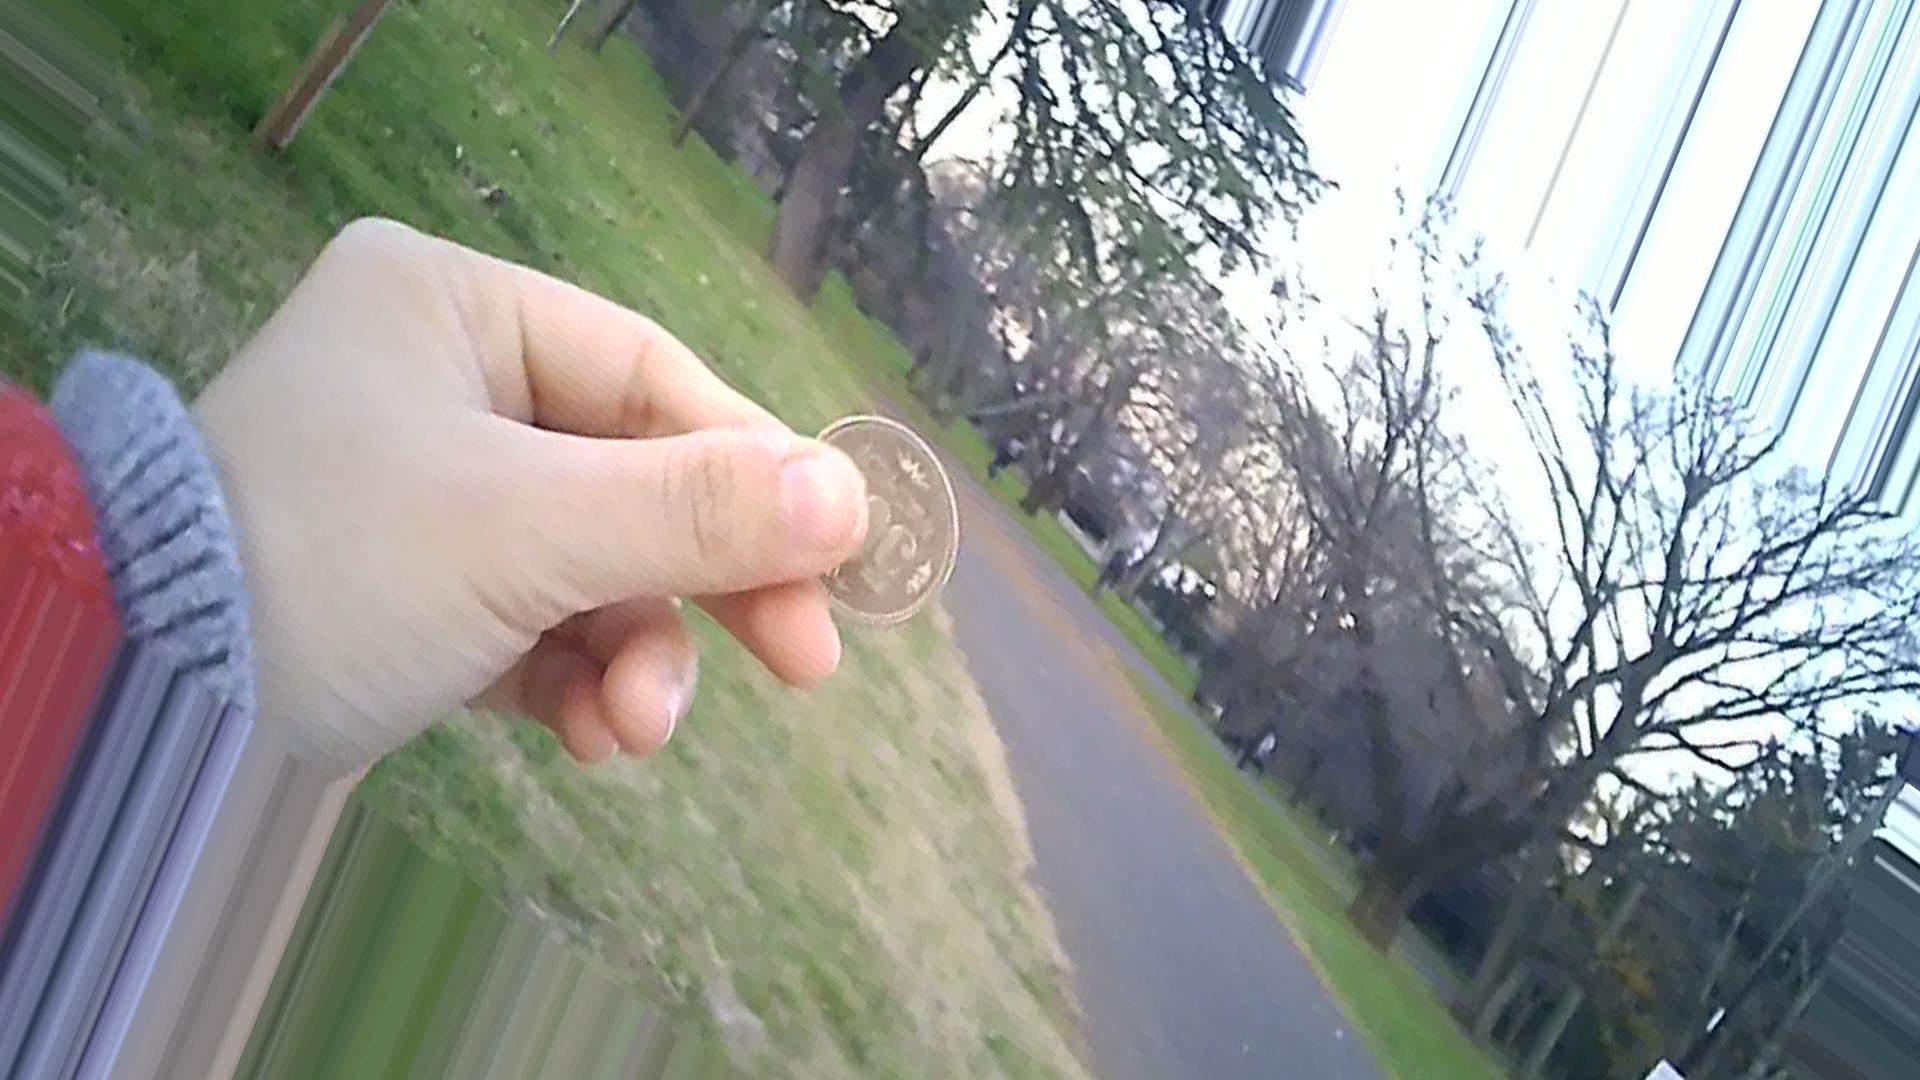500 Yen: (789, 396, 965, 615)
